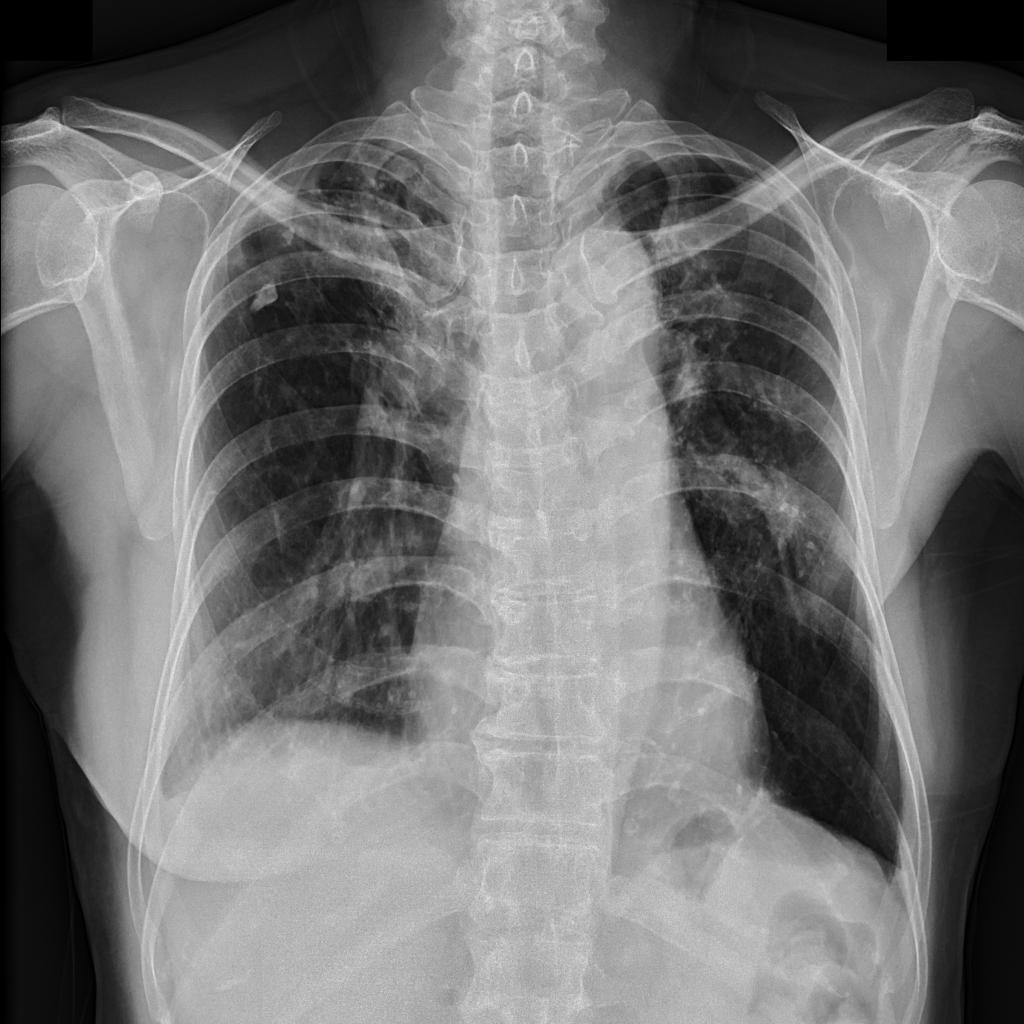Nodule: (249, 286, 280, 316), (278, 225, 298, 249)
